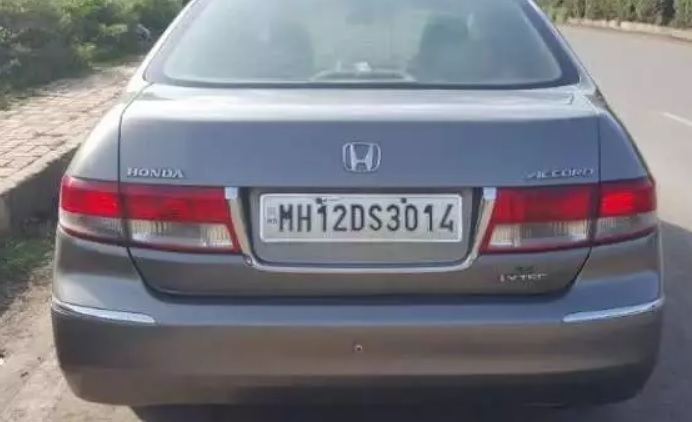licenseplate: (257, 189, 469, 246)
